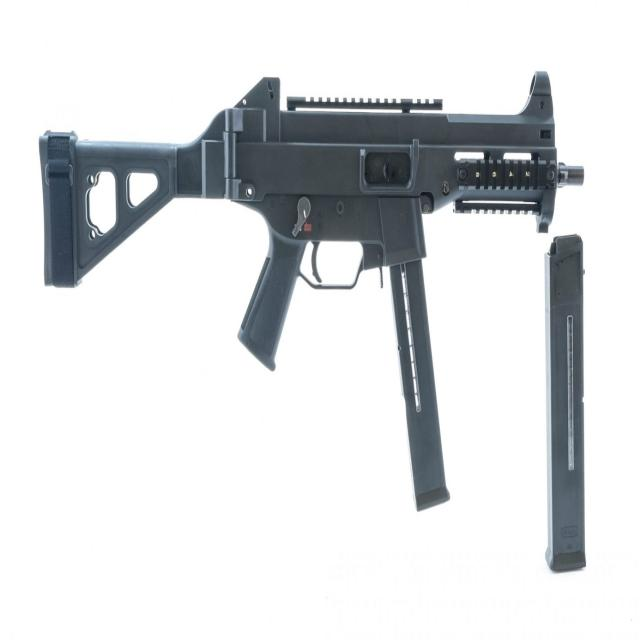SMG: (37, 73, 585, 513)
